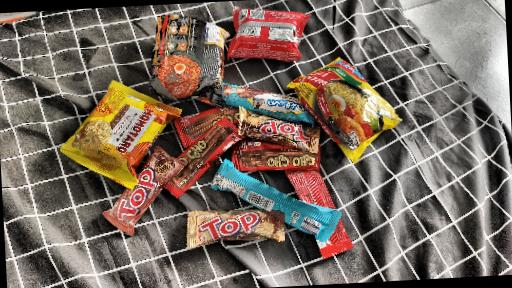indomie: (277, 45, 411, 155)
mie sedap: (152, 9, 226, 103)
momotaro: (71, 68, 180, 179), (230, 3, 316, 62)
top: (149, 206, 306, 257), (107, 149, 188, 246)
